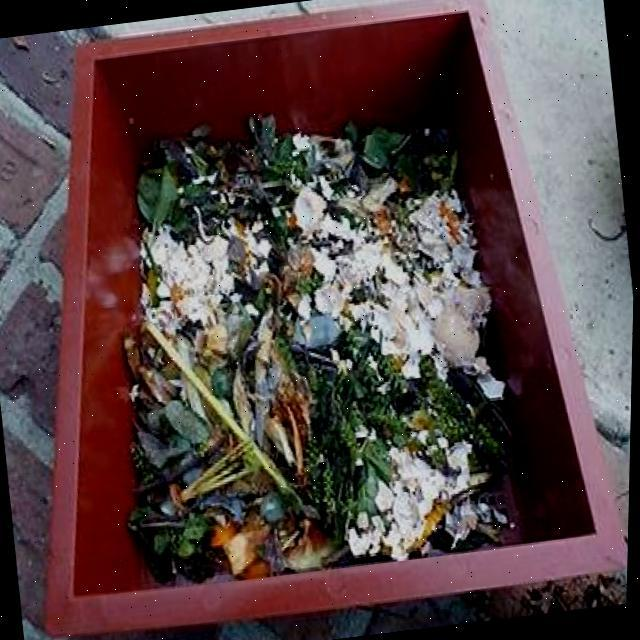Garbage: (124, 113, 514, 581)
